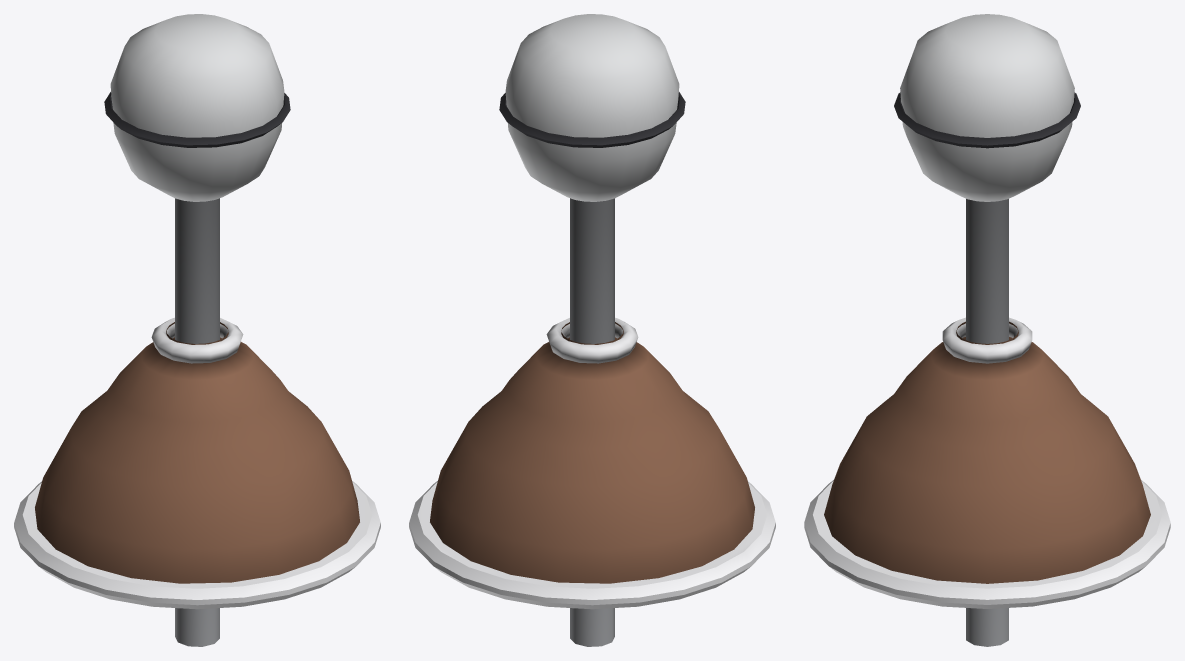
Rendered from gl_short.glb.
The picture shows the model from 3 angles, left to right: view 1: azimuth 30°, elevation 25°; view 2: azimuth 150°, elevation 25°; view 3: azimuth 270°, elevation 25°; orthographic projection.
Parts seen in each view (by area): view 1: PART, LEVER; view 2: PART, LEVER; view 3: PART, LEVER.
Boxes of the visible parts, <box> form: PART: <box>14,317,380,609</box>; LEVER: <box>104,14,290,646</box>; PART: <box>409,317,775,609</box>; LEVER: <box>499,14,685,646</box>; PART: <box>804,317,1170,608</box>; LEVER: <box>894,14,1080,646</box>.
Size of the model in its own units: 0.13 by 0.238 by 0.13.
